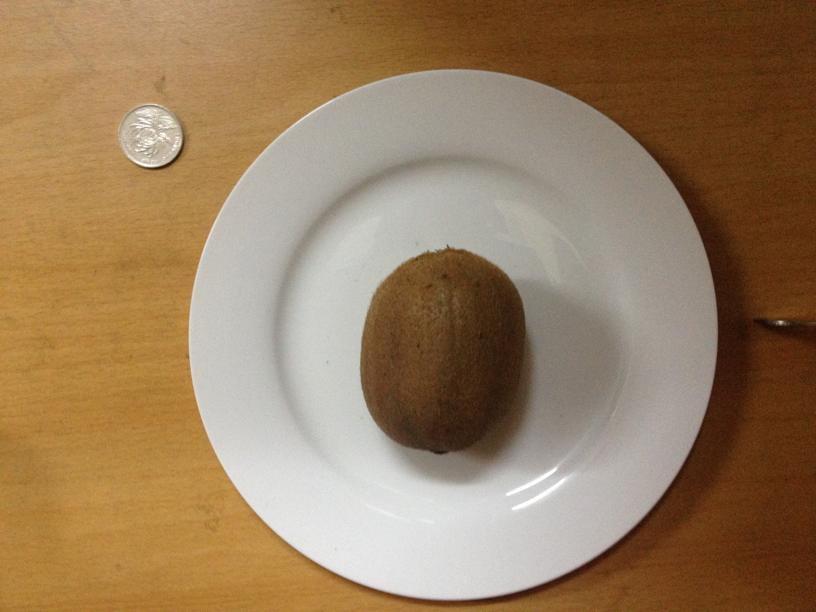coin: (118, 105, 181, 166)
qiwi: (359, 245, 523, 452)
